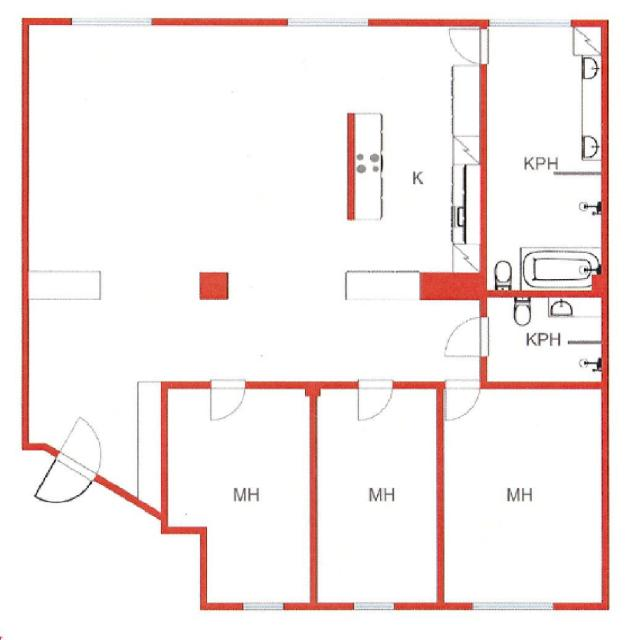door: (35, 452, 97, 518), (57, 414, 118, 480), (442, 317, 486, 356), (446, 29, 486, 64), (211, 382, 245, 422), (445, 382, 479, 422), (359, 382, 392, 422)
